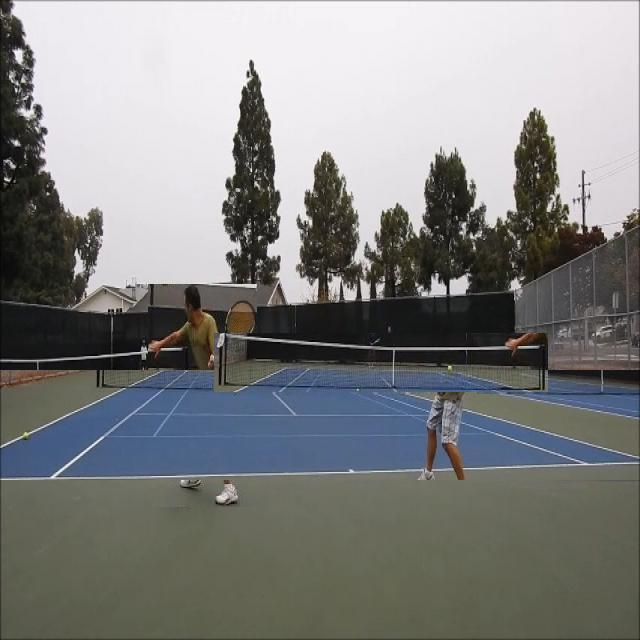court: (0, 370, 640, 480)
net: (214, 334, 548, 394)
player: (148, 284, 257, 507)
